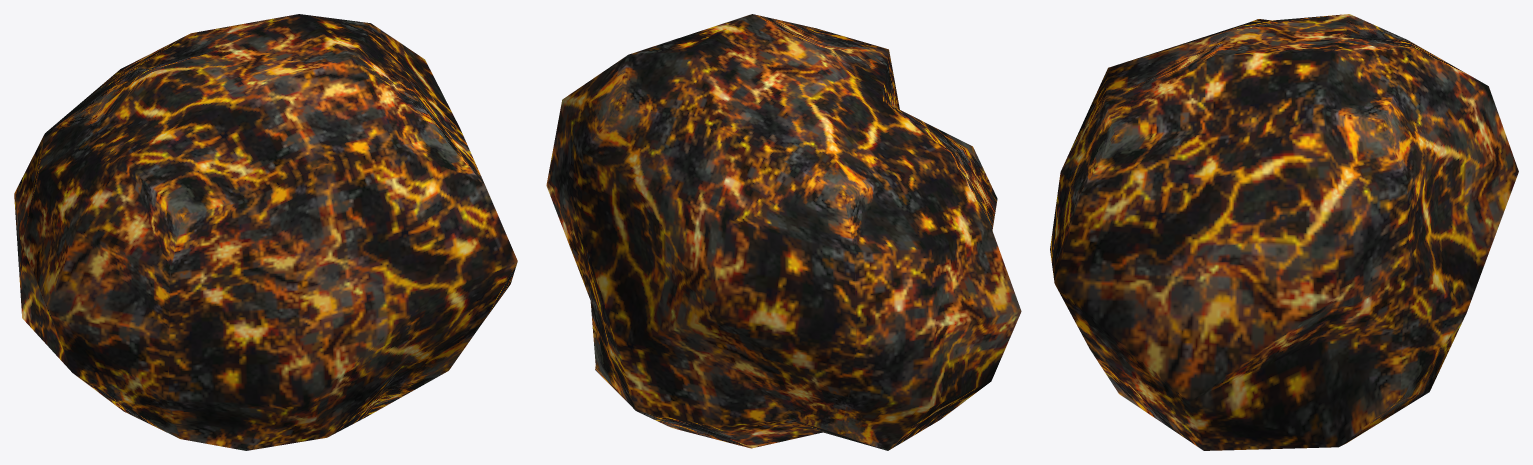
Rendered from asteroid_moltenrock_medium_s01_l2.fbx.
3 views of the same model, side by side, from view 1: azimuth 30°, elevation 25°; view 2: azimuth 150°, elevation 25°; view 3: azimuth 270°, elevation 25° (orthographic). The views are drawn at different scales.
Visible parts, largest first — view 1: mesh_node; view 2: mesh_node; view 3: mesh_node.
Part boxes in pixels (<box>): mesh_node: <box>14,14,517,450</box>; mesh_node: <box>546,14,1021,450</box>; mesh_node: <box>1050,14,1518,450</box>.
Bounding box in the file's own units: 106 × 87.51 × 94.86.
